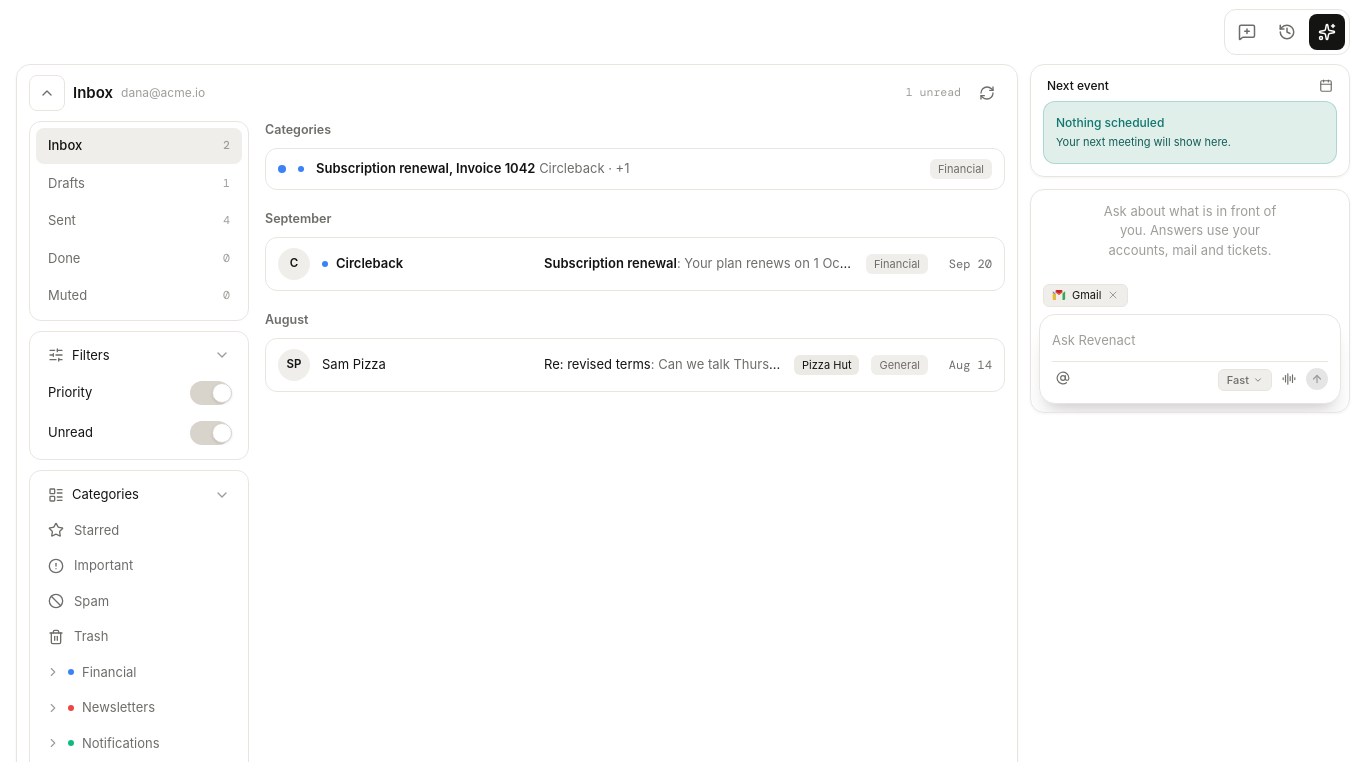
Test: MailboxView › a failed sync is visible
Check: the element "September" is shown, box x1=265 y1=210 x2=1005 y2=291
Click the button named "Sync now": coordinates (987, 93) x1=969 y1=75 x2=1005 y2=111
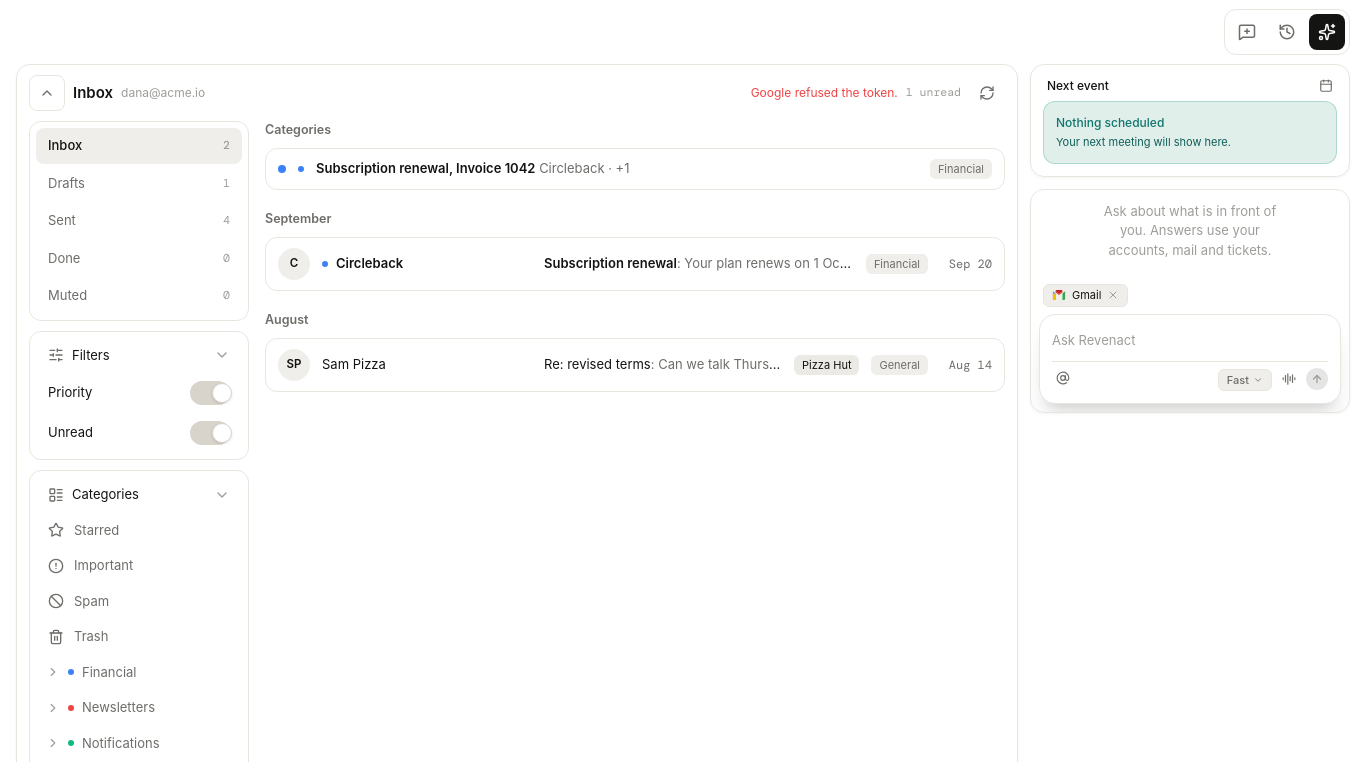
Check: the message reads "Google refused the token.", box x1=751 y1=85 x2=898 y2=100
